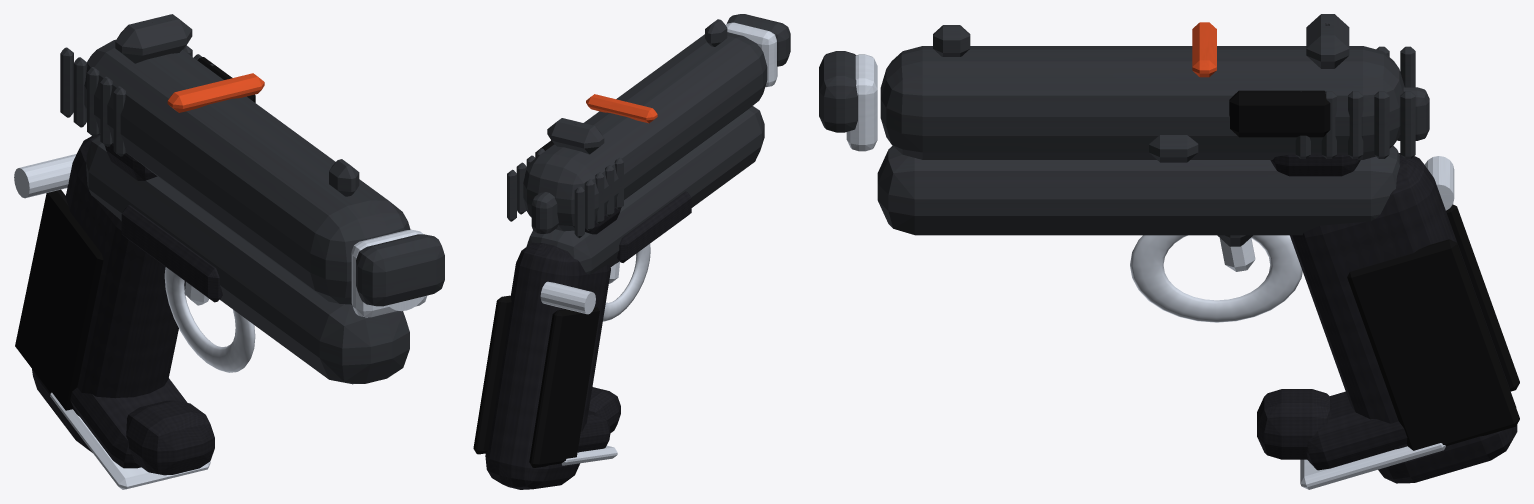
Rendered from wep_pistol.glb.
The picture shows the model from 3 angles, left to right: view 1: azimuth 30°, elevation 25°; view 2: azimuth 150°, elevation 25°; view 3: azimuth 270°, elevation 25°; orthographic projection. The views are drawn at different scales.
Visible parts, largest first — view 1: wep_pistol_slide, wep_pistol_frame, wep_pistol_grip, wep_pistol_grip_panel_l, wep_pistol_beavertail, wep_pistol_slide_crown, wep_pistol_magwell, wep_pistol_frame_strut, wep_pistol_trigger_guard, wep_pistol_sight_rear, wep_pistol_mag_lip, wep_pistol_stripe (+9 smaller); view 2: wep_pistol_slide, wep_pistol_grip, wep_pistol_frame, wep_pistol_grip_panel_l, wep_pistol_grip_panel_r, wep_pistol_frame_strut, wep_pistol_sight_rear, wep_pistol_mag_release, wep_pistol_trigger_guard, wep_pistol_bushing, wep_pistol_slide_crown, wep_pistol_stripe (+12 smaller); view 3: wep_pistol_slide, wep_pistol_frame, wep_pistol_grip_panel_r, wep_pistol_grip, wep_pistol_trigger_guard, wep_pistol_ejection_port, wep_pistol_magwell, wep_pistol_beavertail, wep_pistol_slide_crown, wep_pistol_grip_panel_l, wep_pistol_mag_lip, wep_pistol_bushing (+11 smaller).
Boxes of the visible parts, x1,y1,x2,y2 form: wep_pistol_slide: (84,39,410,304); wep_pistol_frame: (86,136,409,384); wep_pistol_grip: (32,133,185,452); wep_pistol_grip_panel_l: (15,189,103,410); wep_pistol_beavertail: (126,400,214,475); wep_pistol_slide_crown: (356,234,444,306); wep_pistol_magwell: (70,378,187,468); wep_pistol_frame_strut: (121,205,222,302); wep_pistol_trigger_guard: (164,267,255,372); wep_pistol_sight_rear: (115,14,192,63); wep_pistol_mag_lip: (50,392,210,489); wep_pistol_stripe: (167,73,264,112); wep_pistol_slide: (523,32,767,231); wep_pistol_grip: (485,242,610,489); wep_pistol_frame: (526,106,764,274); wep_pistol_grip_panel_l: (529,307,599,467); wep_pistol_grip_panel_r: (473,295,511,454); wep_pistol_frame_strut: (617,191,691,262); wep_pistol_sight_rear: (547,118,604,154); wep_pistol_mag_release: (540,281,595,314); wep_pistol_trigger_guard: (603,244,650,321); wep_pistol_bushing: (725,22,777,87); wep_pistol_slide_crown: (727,14,790,66); wep_pistol_stripe: (586,94,657,123); wep_pistol_slide: (880,46,1404,159); wep_pistol_frame: (877,145,1399,235); wep_pistol_grip_panel_r: (1347,239,1519,450); wep_pistol_grip: (1290,153,1517,483); wep_pistol_trigger_guard: (1130,235,1302,322); wep_pistol_ejection_port: (1229,90,1330,137); wep_pistol_magwell: (1306,391,1407,470); wep_pistol_beavertail: (1257,389,1331,459); wep_pistol_slide_crown: (819,51,857,132); wep_pistol_grip_panel_l: (1446,204,1519,391); wep_pistol_mag_lip: (1300,443,1445,489); wep_pistol_bushing: (846,54,877,151).
Bounding box in the file's own units: 0.0495 × 0.1617 × 0.2273.
5 materials, 5 textured.
